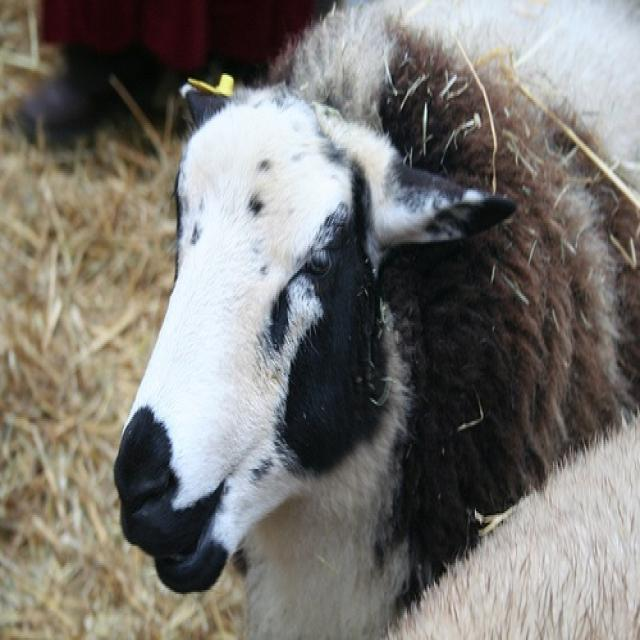sheep: (116, 1, 640, 639)
